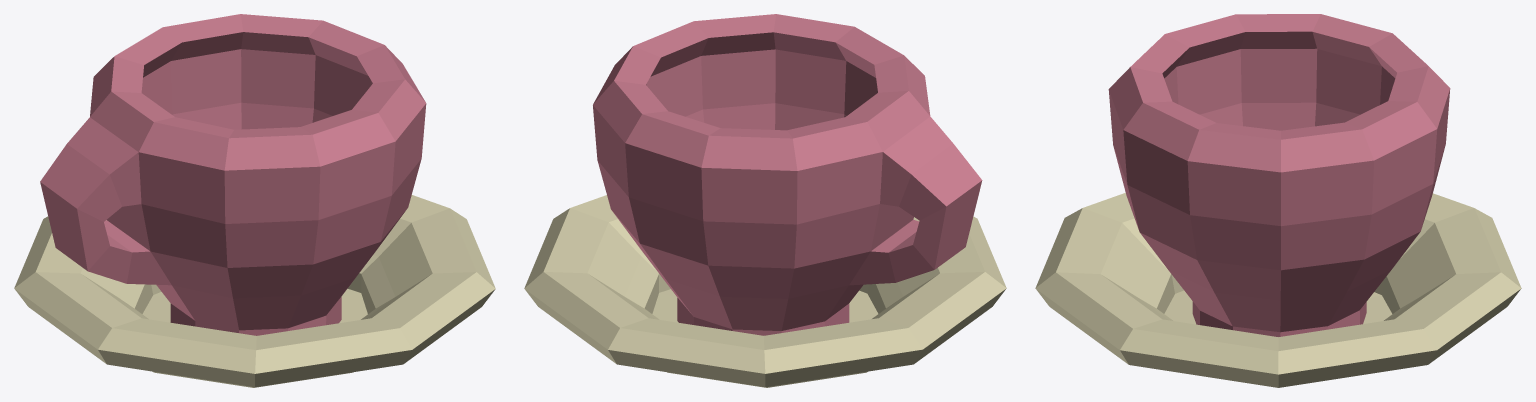
The model's file is mod_tea_cup.fbx.
3 renders of one model, left to right at view 1: azimuth 30°, elevation 25°; view 2: azimuth 150°, elevation 25°; view 3: azimuth 270°, elevation 25°, orthographic.
Visible parts, largest first — view 1: mod_tea_cup, mod_tea_cup_plate; view 2: mod_tea_cup, mod_tea_cup_plate; view 3: mod_tea_cup, mod_tea_cup_plate.
Part boxes in pixels (box(x1,y1,x2,y2)): mod_tea_cup: box(40, 14, 426, 335); mod_tea_cup_plate: box(14, 195, 495, 387); mod_tea_cup: box(593, 14, 982, 335); mod_tea_cup_plate: box(524, 195, 1006, 387); mod_tea_cup: box(1108, 14, 1450, 336); mod_tea_cup_plate: box(1035, 193, 1521, 387).
Size of the model in its own units: 32.67 by 19.32 by 33.16.
